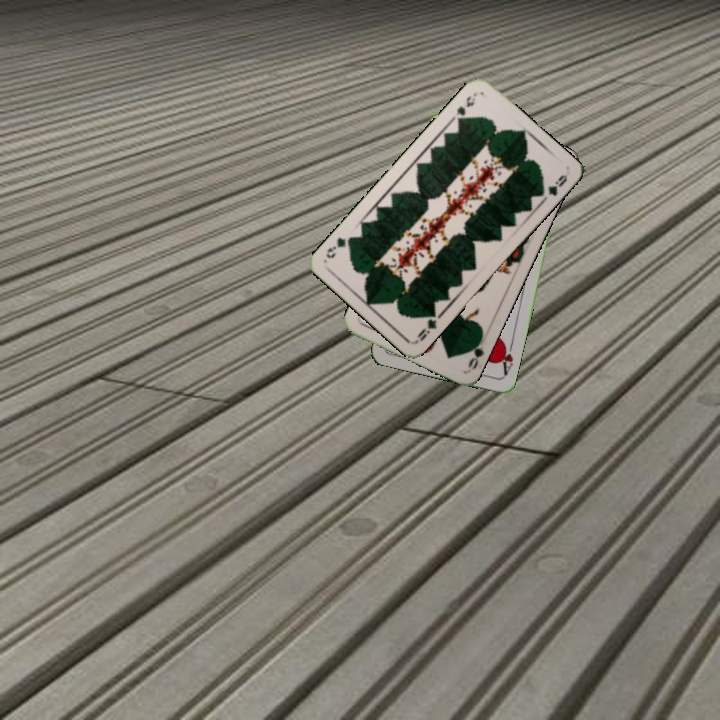G9: (412, 307, 444, 345), (447, 89, 479, 126)
GO: (463, 333, 486, 372)
HA: (496, 338, 516, 378)
